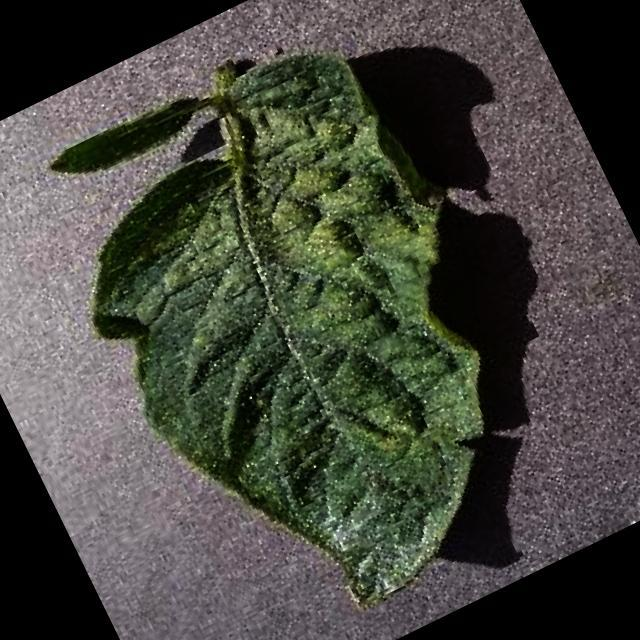Tomato spider mites leaf: (16, 4, 599, 640)
